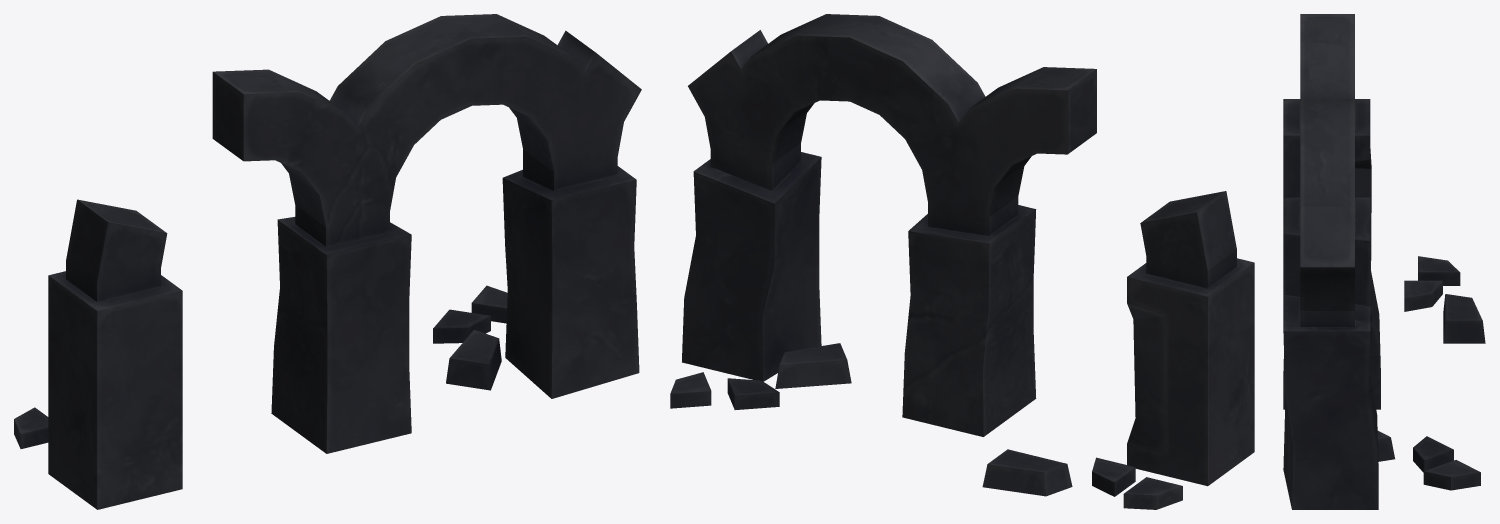
Rendered from Ruins2.FBX.
3 views of the same model, side by side, from view 1: azimuth 30°, elevation 25°; view 2: azimuth 150°, elevation 25°; view 3: azimuth 270°, elevation 25° (orthographic). The views are drawn at different scales.
Visible parts, largest first — view 1: Ruins2; view 2: Ruins2; view 3: Ruins2.
Boxes of the visible parts, box(x1,y1,x2,y2) form: Ruins2: box(14, 14, 641, 509); Ruins2: box(670, 14, 1254, 509); Ruins2: box(1283, 14, 1485, 509).
Bounding box in the file's own units: 1596 × 1019 × 570.
Materials: 1 (1 with a texture image).
